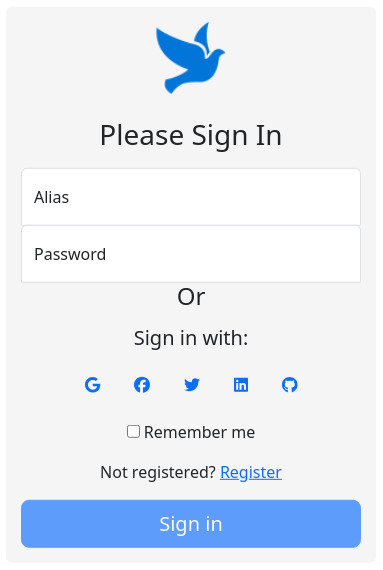
Scenario: Login Component › the sign-in button is disabled if either the alias or password field is cleared
The width and height of the screenshot is (383, 570).
Type "a" into the field labelled "Alias".
click(191, 196); type("a")  # box x1=21 y1=167 x2=361 y2=225
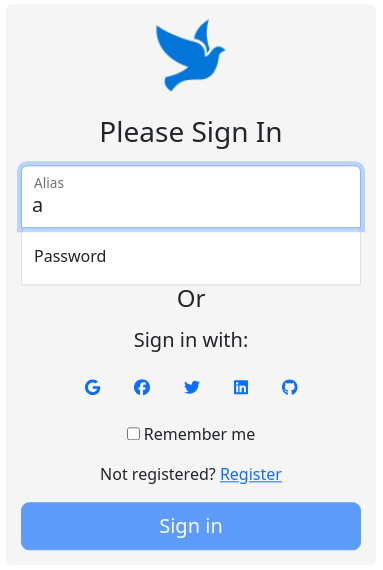
Type "b" into the password field labelled "Password".
click(191, 256); type("b")  # box x1=21 y1=227 x2=361 y2=285
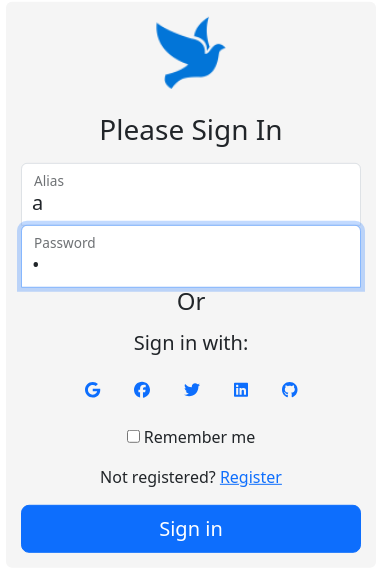
Clear the field labelled "Alias" at (191, 194), box x1=21 y1=162 x2=361 y2=225
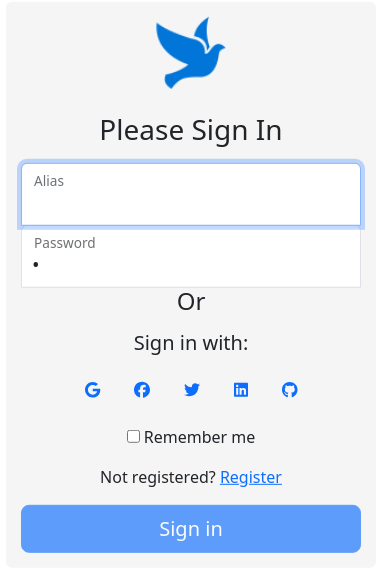
Check: the button "Sign in" is disabled, box x1=21 y1=505 x2=361 y2=553
Type "1" into the field labelled "Alias".
click(191, 194); type("1")  # box x1=21 y1=162 x2=361 y2=225
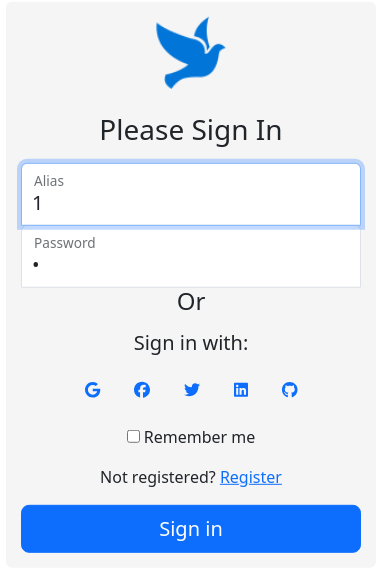
Check: the button "Sign in" is enabled, box x1=21 y1=505 x2=361 y2=553
Clear the password field labelled "Password" at (191, 256), box x1=21 y1=224 x2=361 y2=287
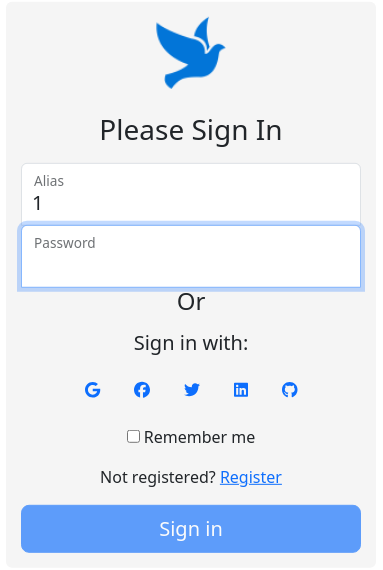
Check: the button "Sign in" is disabled, box x1=21 y1=505 x2=361 y2=553
Type "2" into the password field labelled "Password".
click(191, 256); type("2")  # box x1=21 y1=224 x2=361 y2=287
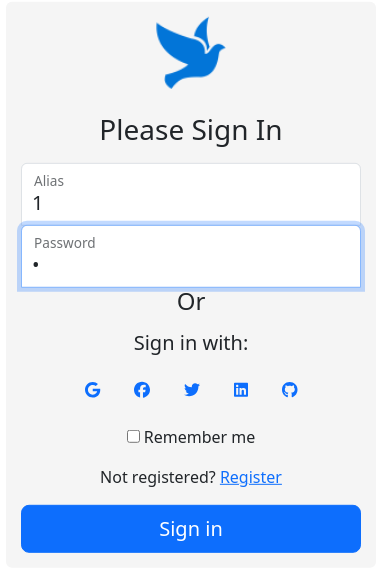
Check: the button "Sign in" is enabled, box x1=21 y1=505 x2=361 y2=553
